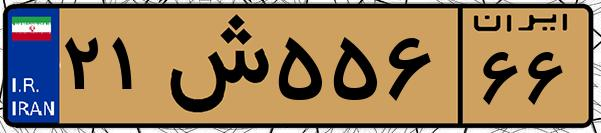1: (110, 28, 158, 98)
2: (57, 26, 110, 100)
5: (270, 28, 330, 110), (330, 28, 385, 110)
6: (385, 28, 445, 110), (475, 38, 525, 113), (525, 38, 570, 115)
ش: (158, 12, 270, 120)
